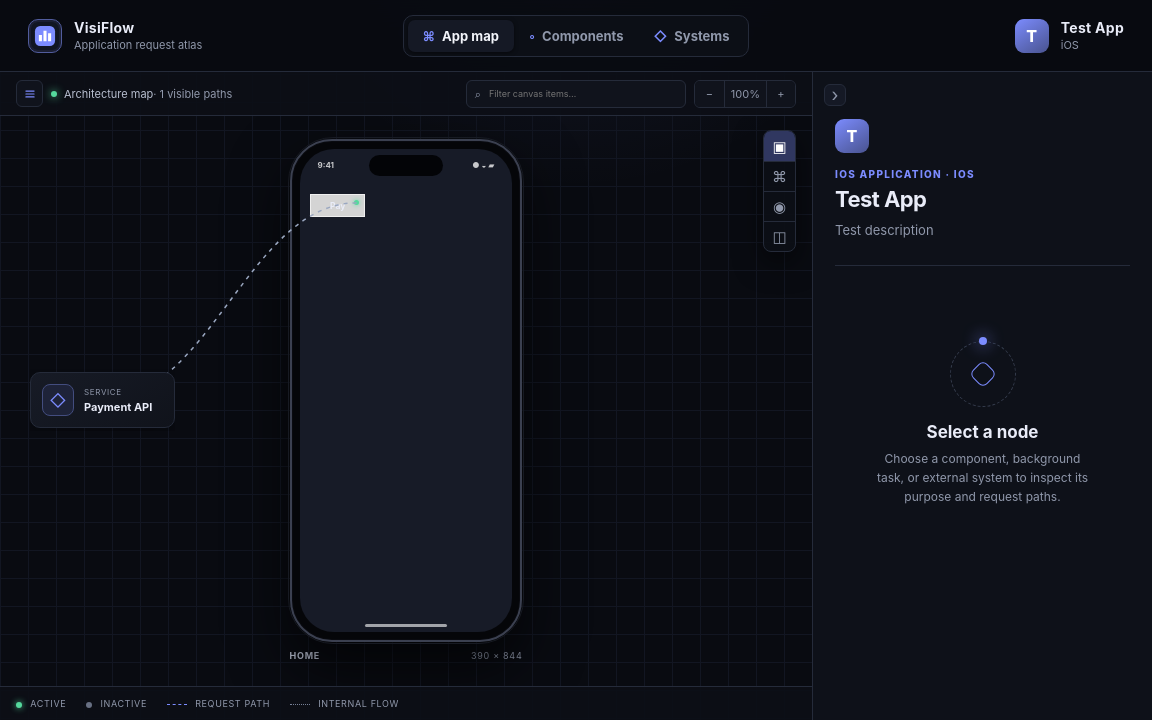
Test: VisiFlow › shows component image and schema previews in the catalog cards
Click the button "◦ Components". click: (576, 36)
box: [514, 20, 639, 52]
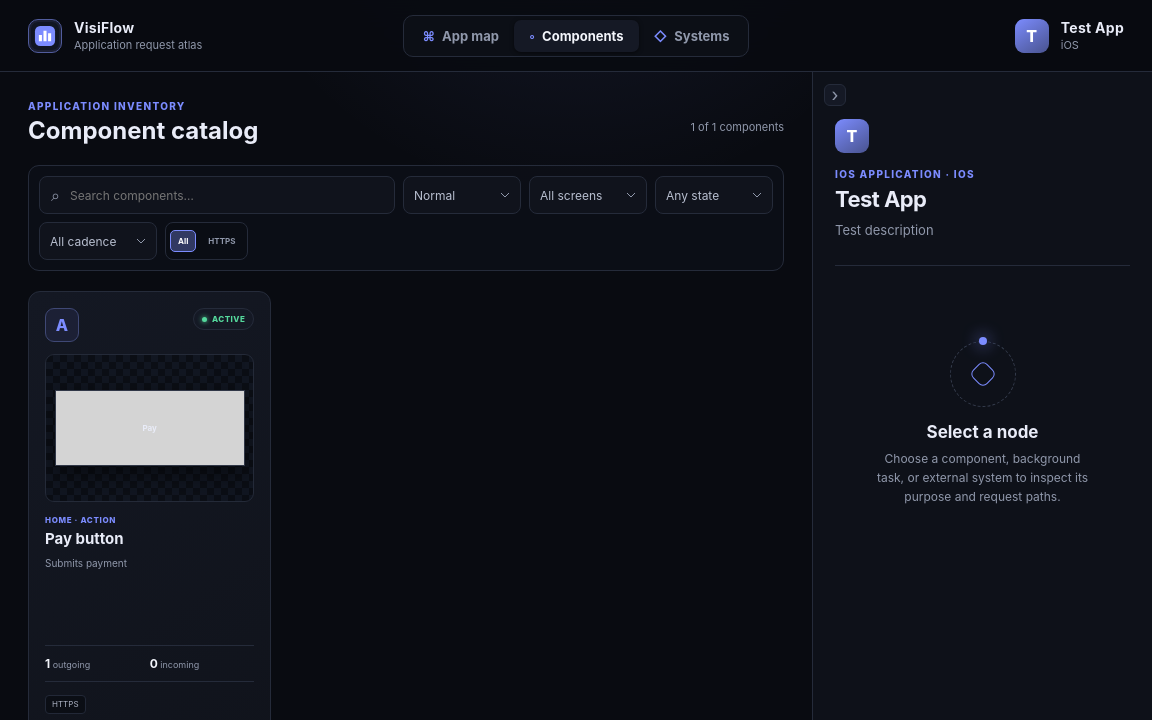
Expected: the picture named "Pay button visual preview" is shown, [45, 354, 254, 502]
Expected: the text with class "component-preview-label" reads "Pay", [142, 423, 157, 433]
